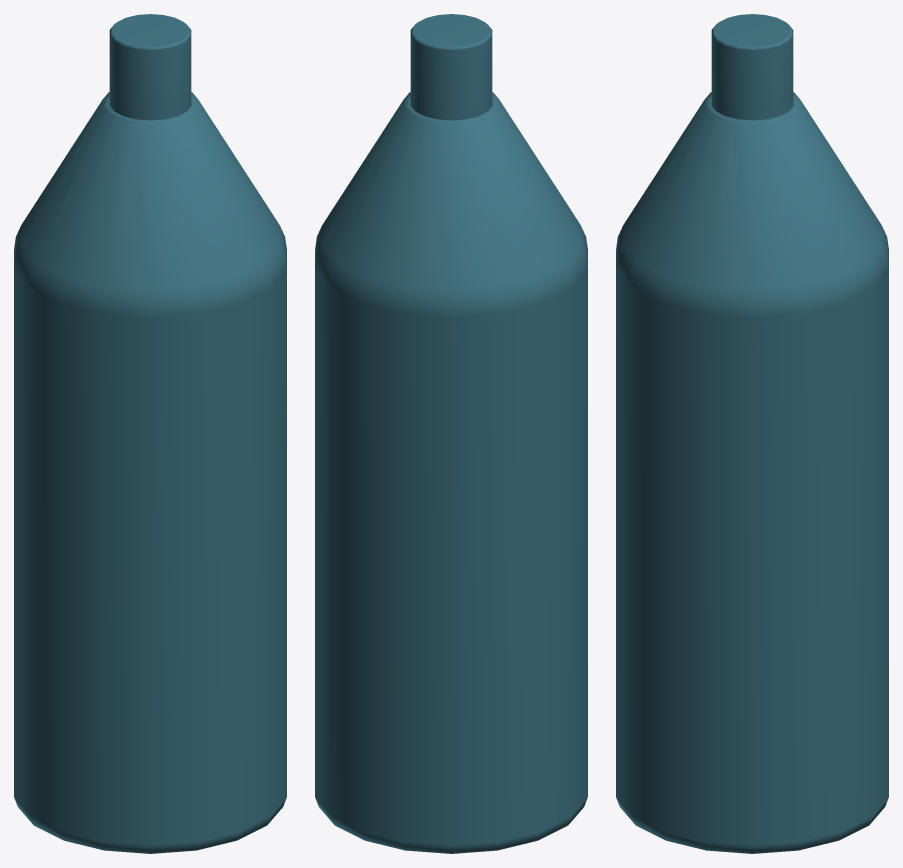
The model's file is SM_SmallTrashkit_Bottle_001.fbx.
3 renders of one model, left to right at view 1: azimuth 30°, elevation 25°; view 2: azimuth 150°, elevation 25°; view 3: azimuth 270°, elevation 25°, orthographic.
Visible parts, largest first — view 1: SM_SmallTrashkit_Bottle_001; view 2: SM_SmallTrashkit_Bottle_001; view 3: SM_SmallTrashkit_Bottle_001.
Boxes of the visible parts, x1,y1,x2,y2 form: SM_SmallTrashkit_Bottle_001: [14, 14, 286, 853]; SM_SmallTrashkit_Bottle_001: [315, 14, 587, 853]; SM_SmallTrashkit_Bottle_001: [616, 14, 888, 853].
Size of the model in its own units: 14.64 by 44.9 by 14.42.
